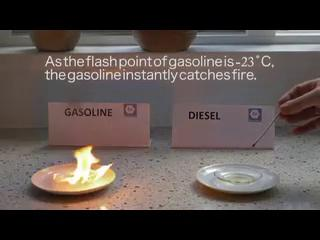Fire: (59, 114, 113, 187)
